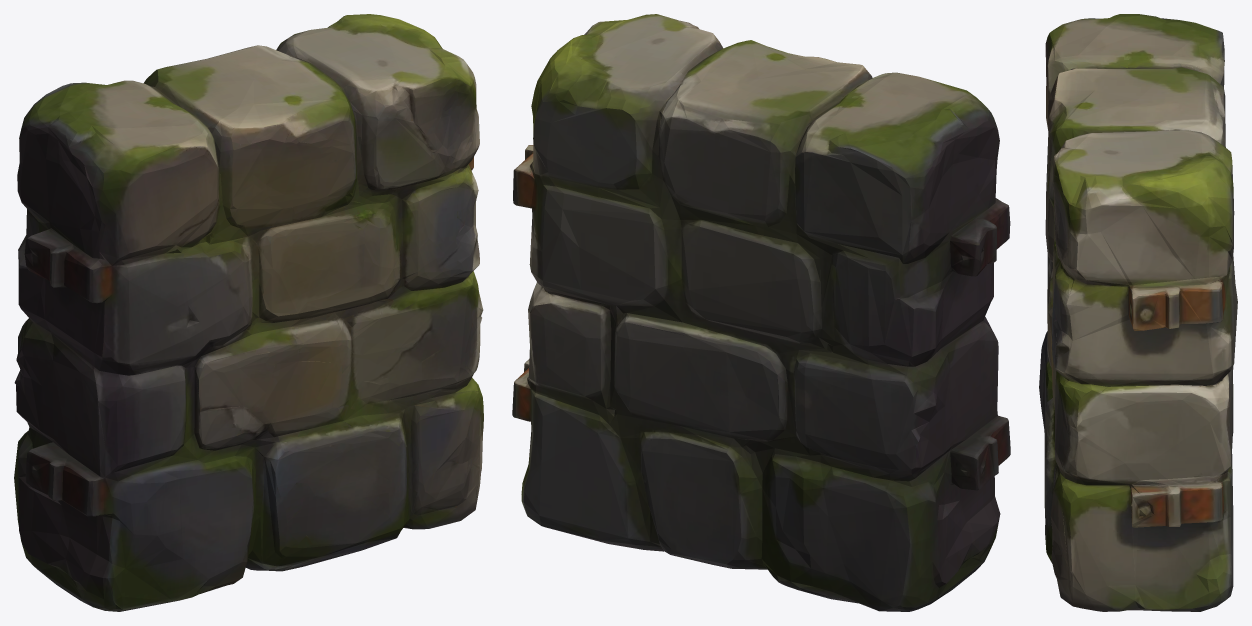
The model's file is wall_brick_big.glb.
3 renders of one model, left to right at view 1: azimuth 30°, elevation 25°; view 2: azimuth 150°, elevation 25°; view 3: azimuth 270°, elevation 25°, orthographic. The views are drawn at different scales.
Visible parts, largest first — view 1: world; view 2: world; view 3: world.
Part boxes in pixels (x1,y1,x2,y2): world: (14, 14, 483, 611); world: (512, 14, 1010, 611); world: (1039, 14, 1237, 611).
Size of the model in its own units: 0.99 by 0.9974 by 0.4119.
1 material, 1 textured.
